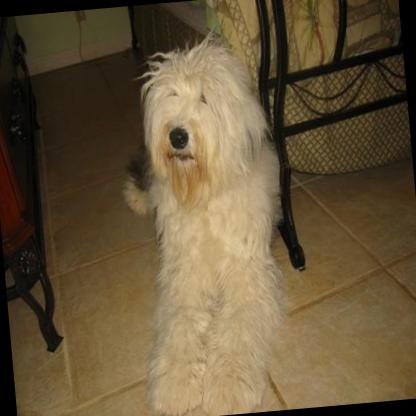Old_English_sheepdog: (108, 27, 297, 416)
